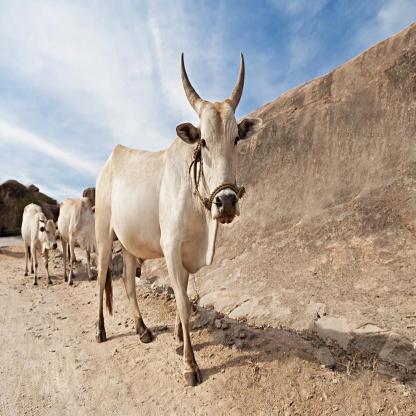cow: (95, 101, 259, 383), (57, 198, 93, 284), (23, 201, 57, 287)
